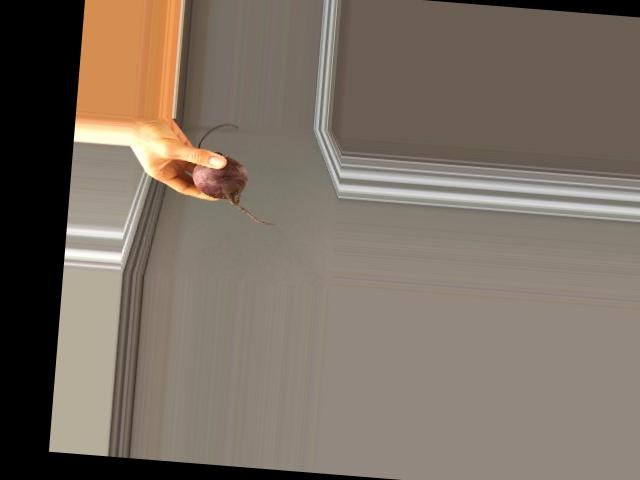beet: (190, 121, 285, 225)
